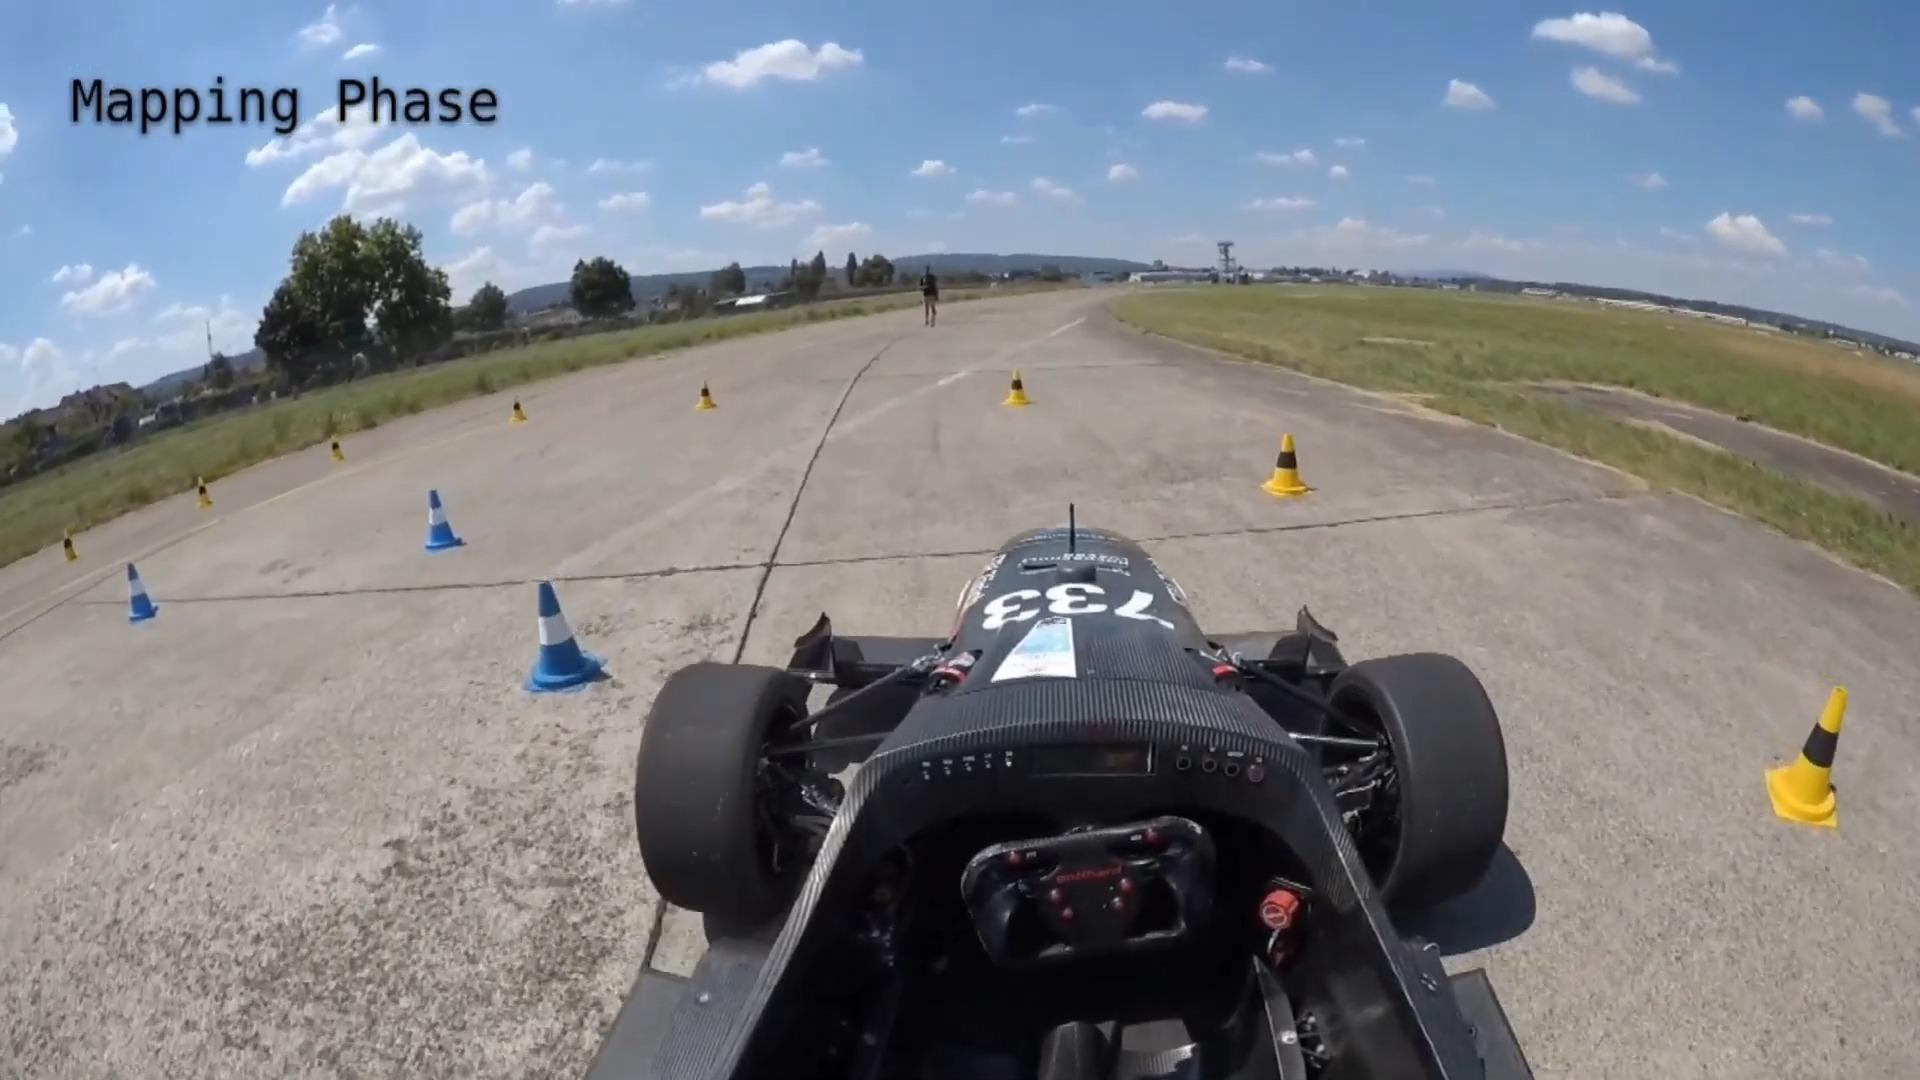blue_cone: (524, 582, 609, 694), (423, 488, 467, 551), (124, 563, 157, 624)
yellow_cone: (1764, 688, 1846, 829), (1259, 430, 1317, 500), (1002, 368, 1035, 409), (695, 378, 715, 410)
